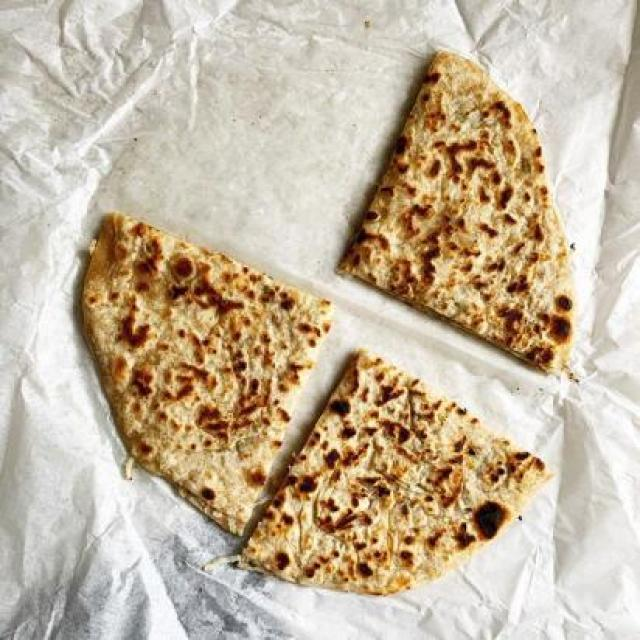alooparatha-chapati: (360, 45, 592, 368), (73, 220, 320, 509), (271, 358, 551, 599)
